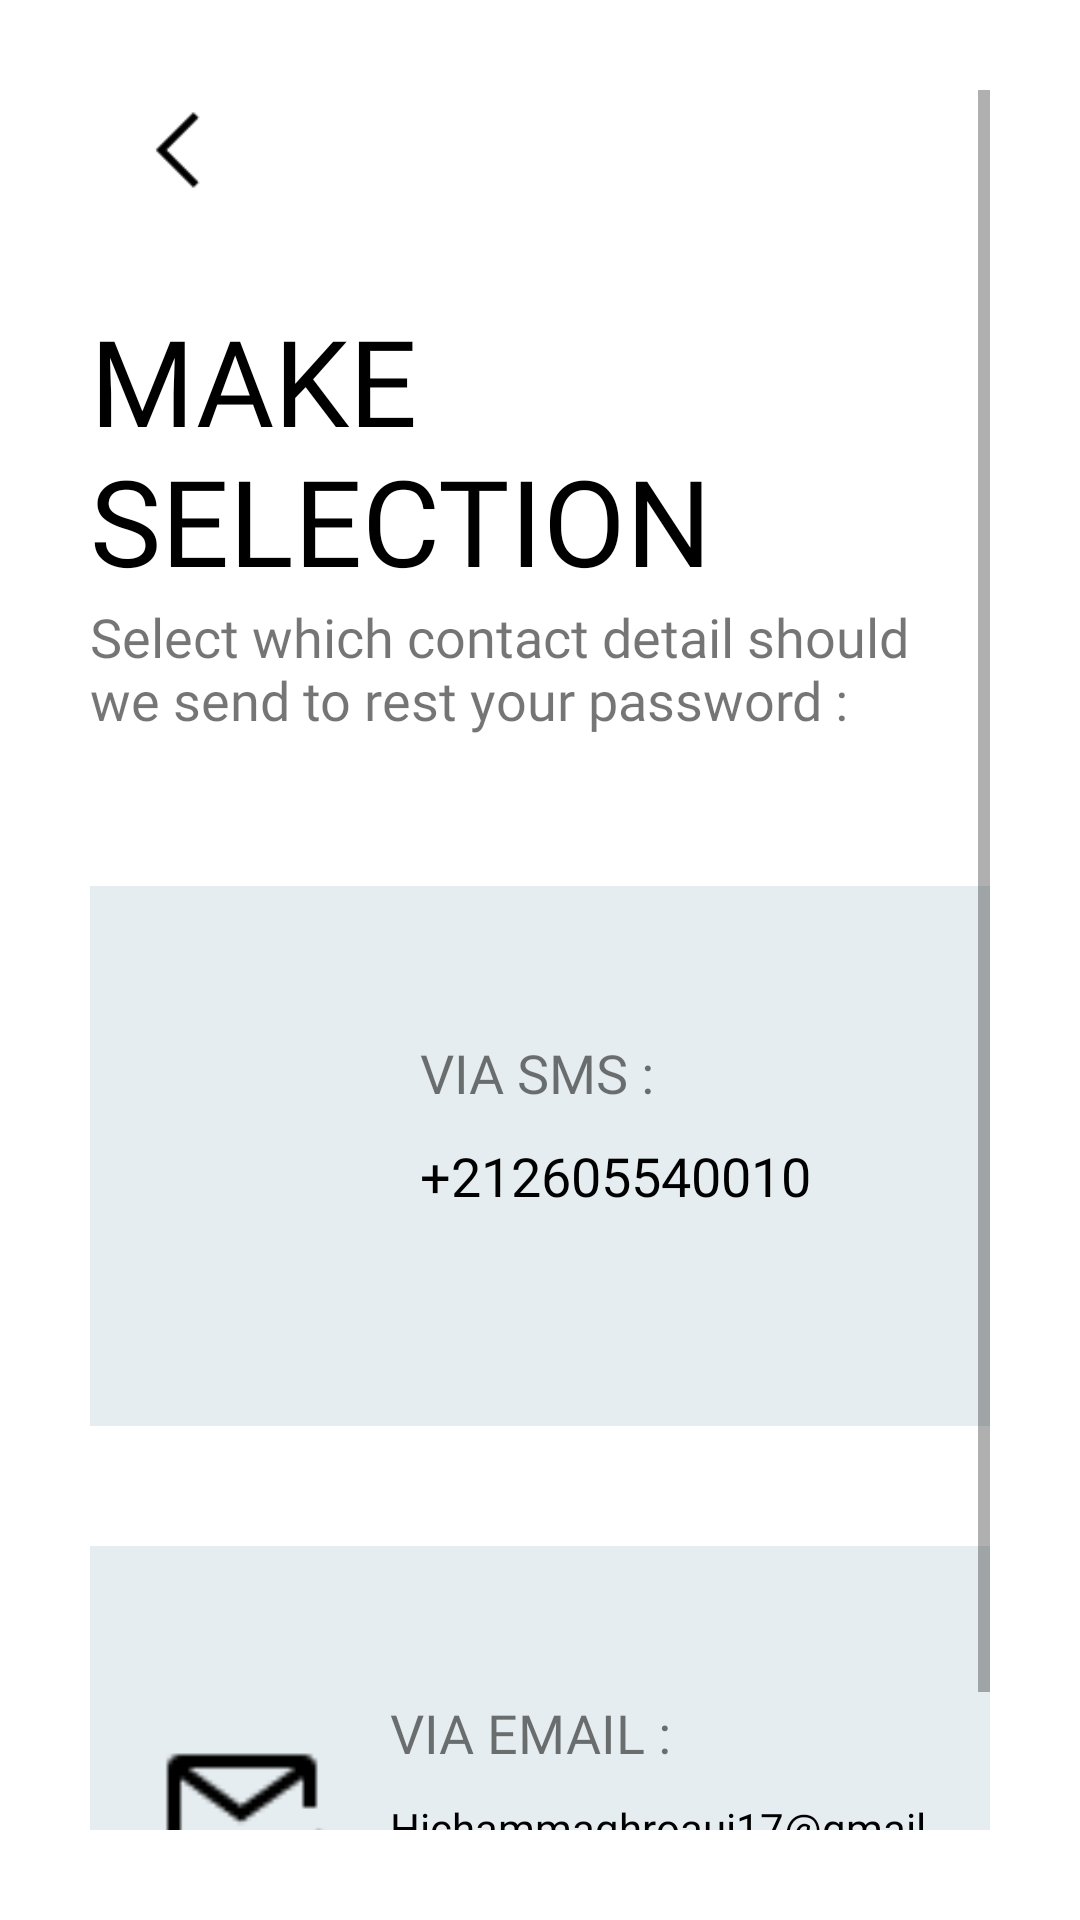

Locate icon controls on the screen. Image size 1080 x 1920, boxes as (x1, y1, x2, y2).
back: (156, 112, 200, 188)
